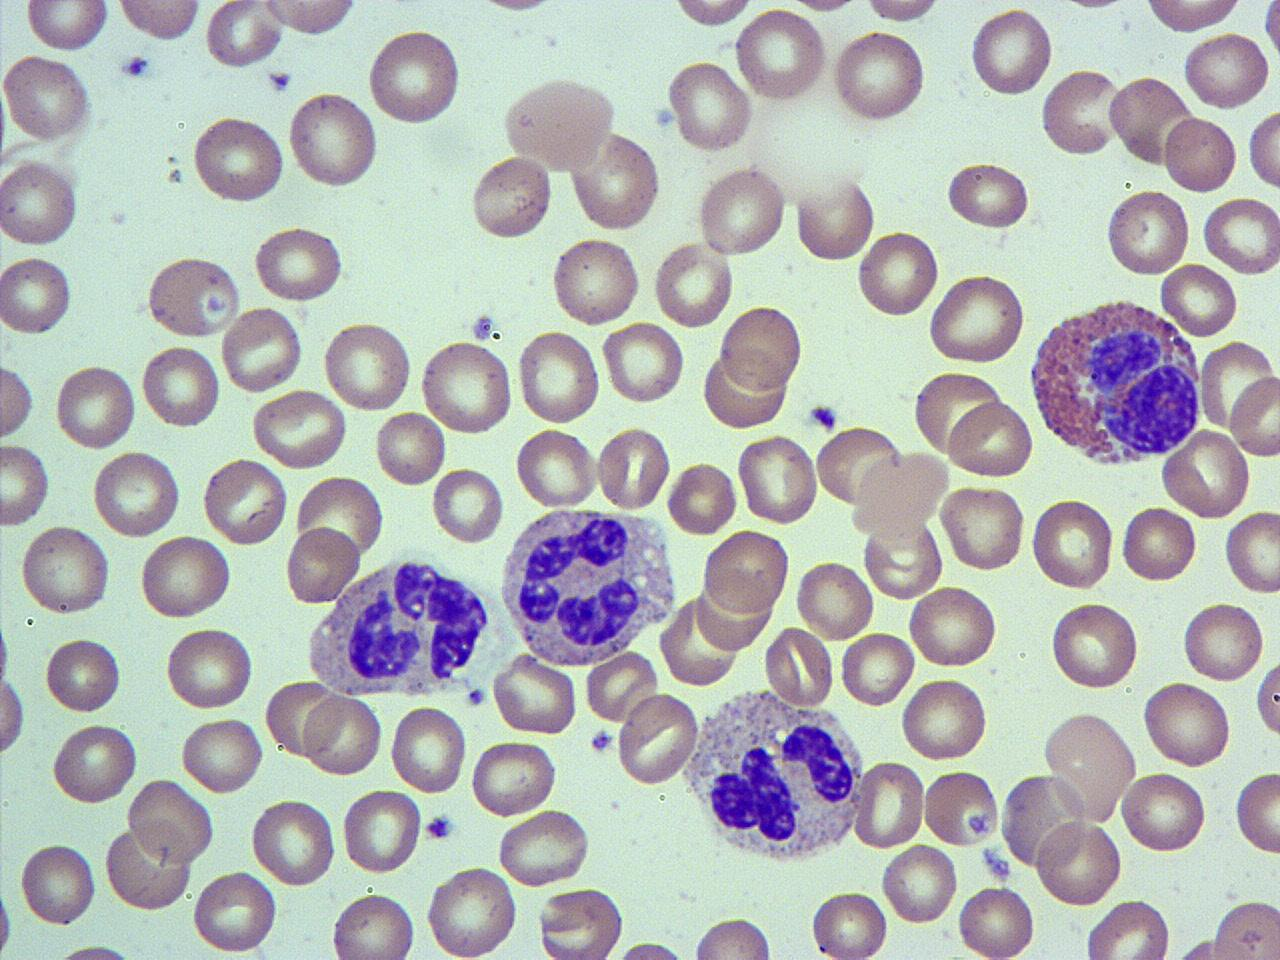Platelets: (113, 2, 195, 46), (806, 400, 840, 435), (422, 811, 456, 843), (118, 51, 153, 82), (262, 66, 295, 96), (590, 728, 616, 754), (652, 104, 676, 130), (467, 685, 487, 707)
RBC: (288, 470, 386, 596), (500, 72, 622, 171), (567, 127, 663, 232), (366, 25, 464, 127), (417, 338, 516, 438), (829, 28, 929, 124), (286, 89, 380, 190), (17, 520, 113, 618), (927, 272, 1027, 366), (694, 163, 790, 259), (734, 7, 829, 104), (1139, 676, 1233, 772), (320, 319, 414, 414), (1048, 598, 1142, 693), (190, 113, 286, 206), (137, 532, 235, 623), (425, 864, 519, 958), (102, 820, 193, 916), (911, 367, 1004, 460), (0, 52, 94, 144), (906, 582, 1002, 672), (516, 326, 602, 426), (664, 57, 754, 152), (1161, 427, 1251, 521), (968, 4, 1055, 101), (793, 166, 879, 264), (1028, 496, 1114, 594), (144, 253, 242, 339), (616, 688, 700, 788), (937, 483, 1028, 575), (550, 235, 640, 327), (201, 454, 289, 548), (49, 719, 141, 808), (898, 675, 990, 764), (250, 794, 337, 888), (1108, 73, 1194, 168), (855, 227, 941, 322), (495, 807, 594, 889), (248, 388, 348, 469), (92, 448, 182, 538), (1034, 818, 1122, 910), (736, 431, 820, 527), (1104, 187, 1192, 278), (468, 152, 554, 245), (702, 526, 791, 615), (719, 302, 805, 394), (488, 650, 580, 736), (127, 776, 216, 864), (163, 625, 254, 711), (53, 360, 138, 452), (340, 785, 423, 879), (252, 223, 348, 304), (190, 868, 278, 956), (946, 396, 1035, 482), (219, 304, 304, 394), (1040, 66, 1122, 159), (388, 703, 468, 798), (514, 424, 600, 512), (1180, 598, 1266, 686), (1118, 770, 1208, 854), (0, 156, 80, 250), (140, 340, 222, 431), (600, 319, 687, 404), (178, 714, 266, 798), (16, 838, 98, 928), (1180, 30, 1272, 110), (852, 756, 928, 852), (653, 241, 734, 330), (880, 838, 960, 928), (302, 692, 383, 780), (468, 738, 559, 816), (794, 556, 876, 642), (595, 421, 672, 512), (43, 631, 124, 717), (284, 520, 363, 606), (1200, 193, 1280, 277), (1118, 502, 1198, 586), (536, 886, 626, 960), (944, 159, 1033, 232), (1158, 260, 1240, 339), (0, 252, 75, 338), (922, 766, 1000, 848), (372, 406, 448, 490), (762, 624, 836, 710), (956, 883, 1038, 960), (1162, 113, 1238, 195), (431, 464, 505, 548), (330, 890, 417, 960), (583, 646, 660, 724), (808, 887, 890, 960), (840, 630, 916, 708), (666, 458, 739, 536), (204, 0, 285, 70), (1082, 898, 1172, 959), (1222, 506, 1280, 596), (1226, 370, 1280, 461), (23, 0, 112, 54), (0, 440, 52, 529), (1211, 896, 1279, 960), (1233, 768, 1279, 857), (258, 0, 362, 38), (113, 0, 204, 43), (1139, 0, 1249, 35), (690, 915, 775, 959), (1246, 104, 1280, 194), (0, 358, 35, 441), (0, 667, 28, 762), (1251, 652, 1279, 746), (670, 0, 756, 29), (858, 0, 948, 25), (611, 938, 693, 960), (1260, 0, 1280, 60)
WBC: (679, 686, 870, 870), (1024, 294, 1204, 469), (494, 501, 680, 670), (302, 551, 498, 705)
